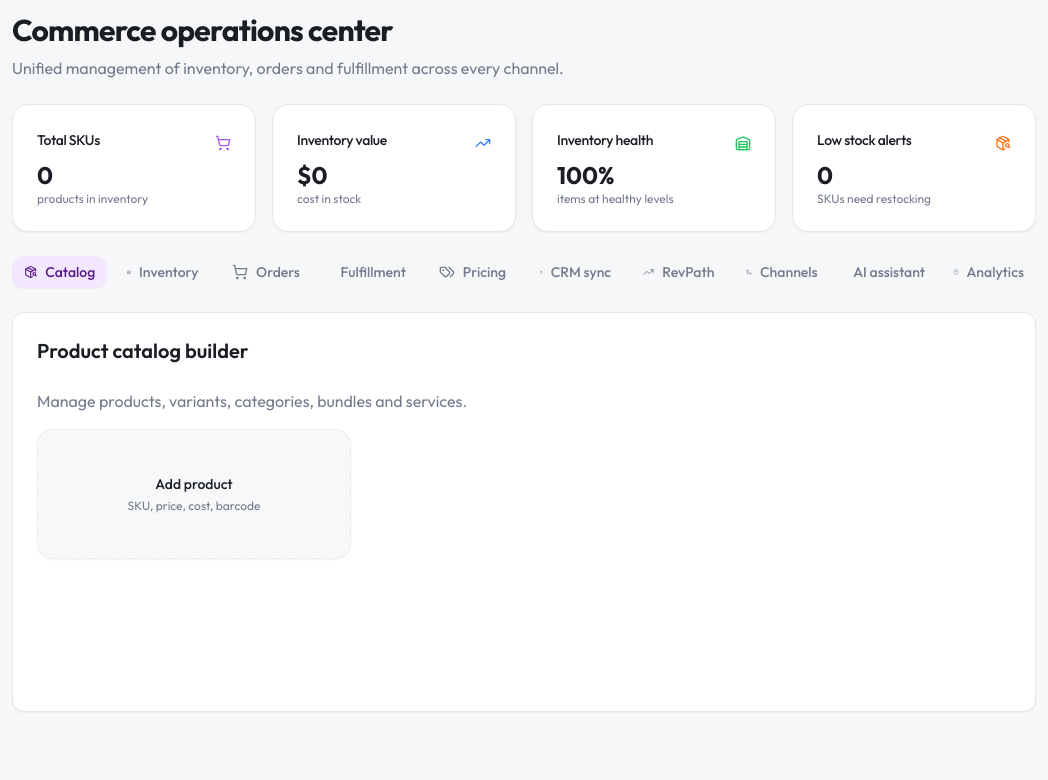
Test: InventoryOrders in English › renders the Orders panel in English
Press the mouse on the tab "Orders" at (266,272), box top-left (218, 256), bottom-right (314, 288)
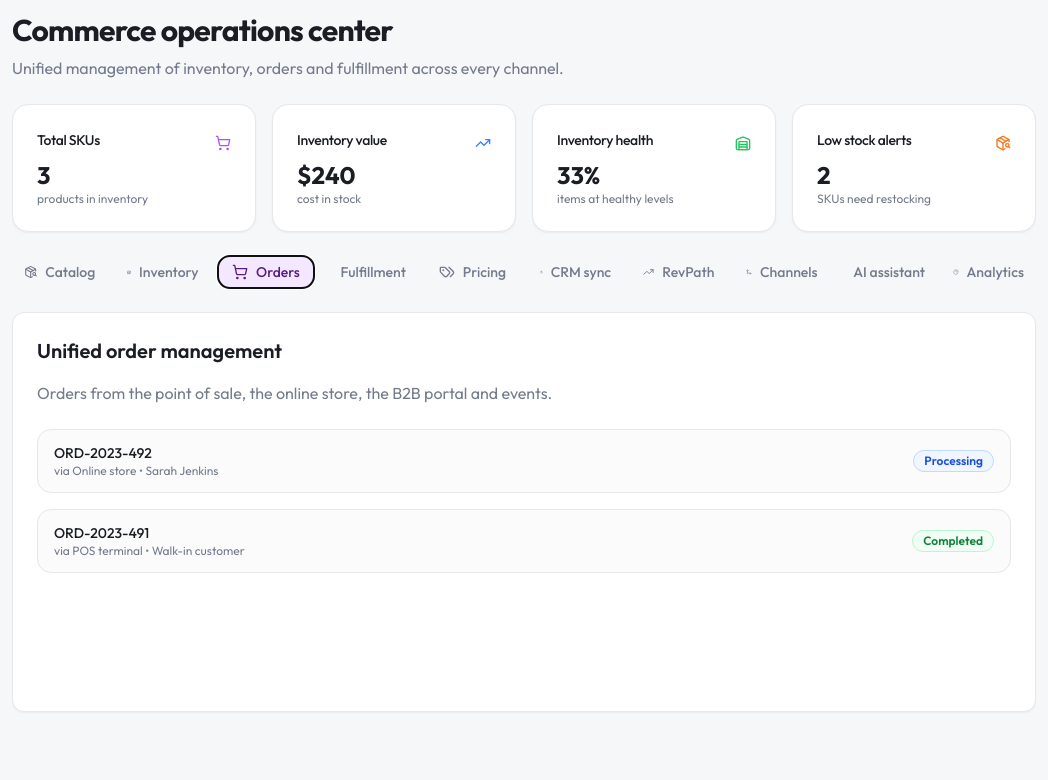
Now the heading "Unified order management" is shown, box top-left (37, 338), bottom-right (282, 363)
